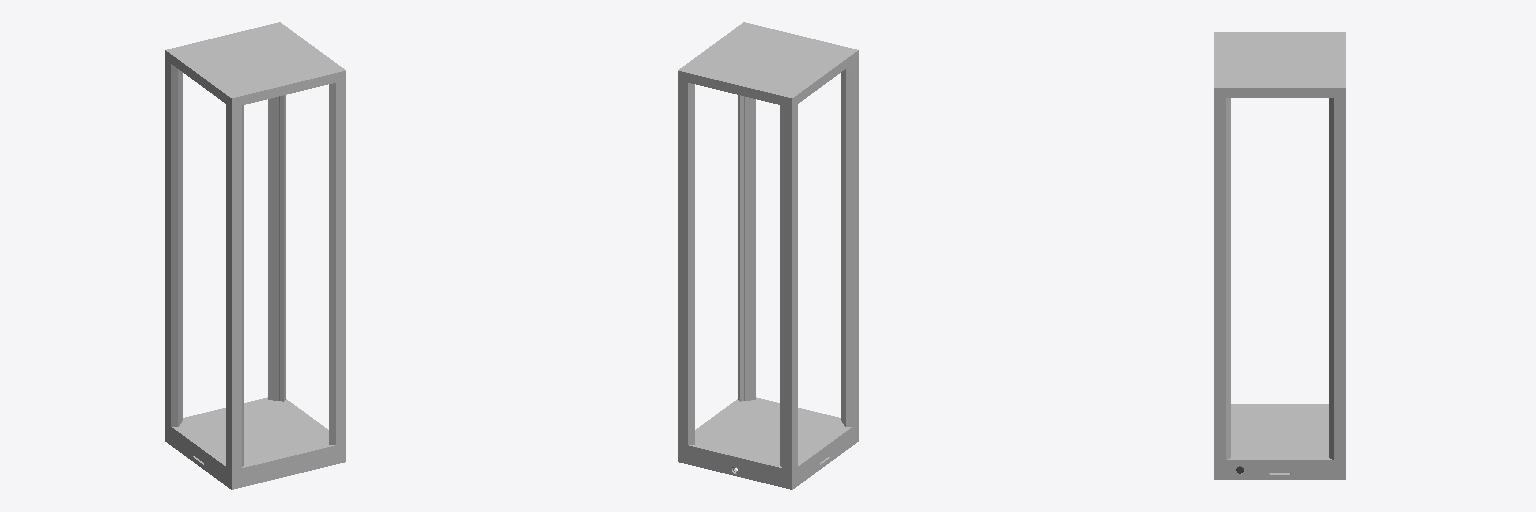
The picture shows the model from 3 angles: view 1: azimuth 30°, elevation 25°; view 2: azimuth 150°, elevation 25°; view 3: azimuth 270°, elevation 25°; orthographic projection.
Visible parts, largest first — view 1: PROTO.007_Cube.031, Cube_Cube.001, Cube.001_Cube.006, Cube.021_Cube.061; view 2: PROTO.007_Cube.031, Cube_Cube.001, Cube.001_Cube.006, Cube.021_Cube.061; view 3: PROTO.007_Cube.031, Cube.001_Cube.006, Cube_Cube.001.
Boxes of the visible parts, box(x1,y1,x2,y2) form: PROTO.007_Cube.031: box(165, 60, 345, 470); Cube_Cube.001: box(165, 397, 345, 489); Cube.001_Cube.006: box(165, 22, 345, 107); Cube.021_Cube.061: box(180, 71, 278, 423); PROTO.007_Cube.031: box(678, 60, 858, 470); Cube_Cube.001: box(678, 397, 858, 489); Cube.001_Cube.006: box(678, 22, 858, 107); Cube.021_Cube.061: box(745, 71, 843, 423); PROTO.007_Cube.031: box(1214, 98, 1345, 459); Cube.001_Cube.006: box(1214, 32, 1345, 97); Cube_Cube.001: box(1214, 404, 1345, 479).
Bounding box in the file's own units: 0.2508 × 0.815 × 0.25.